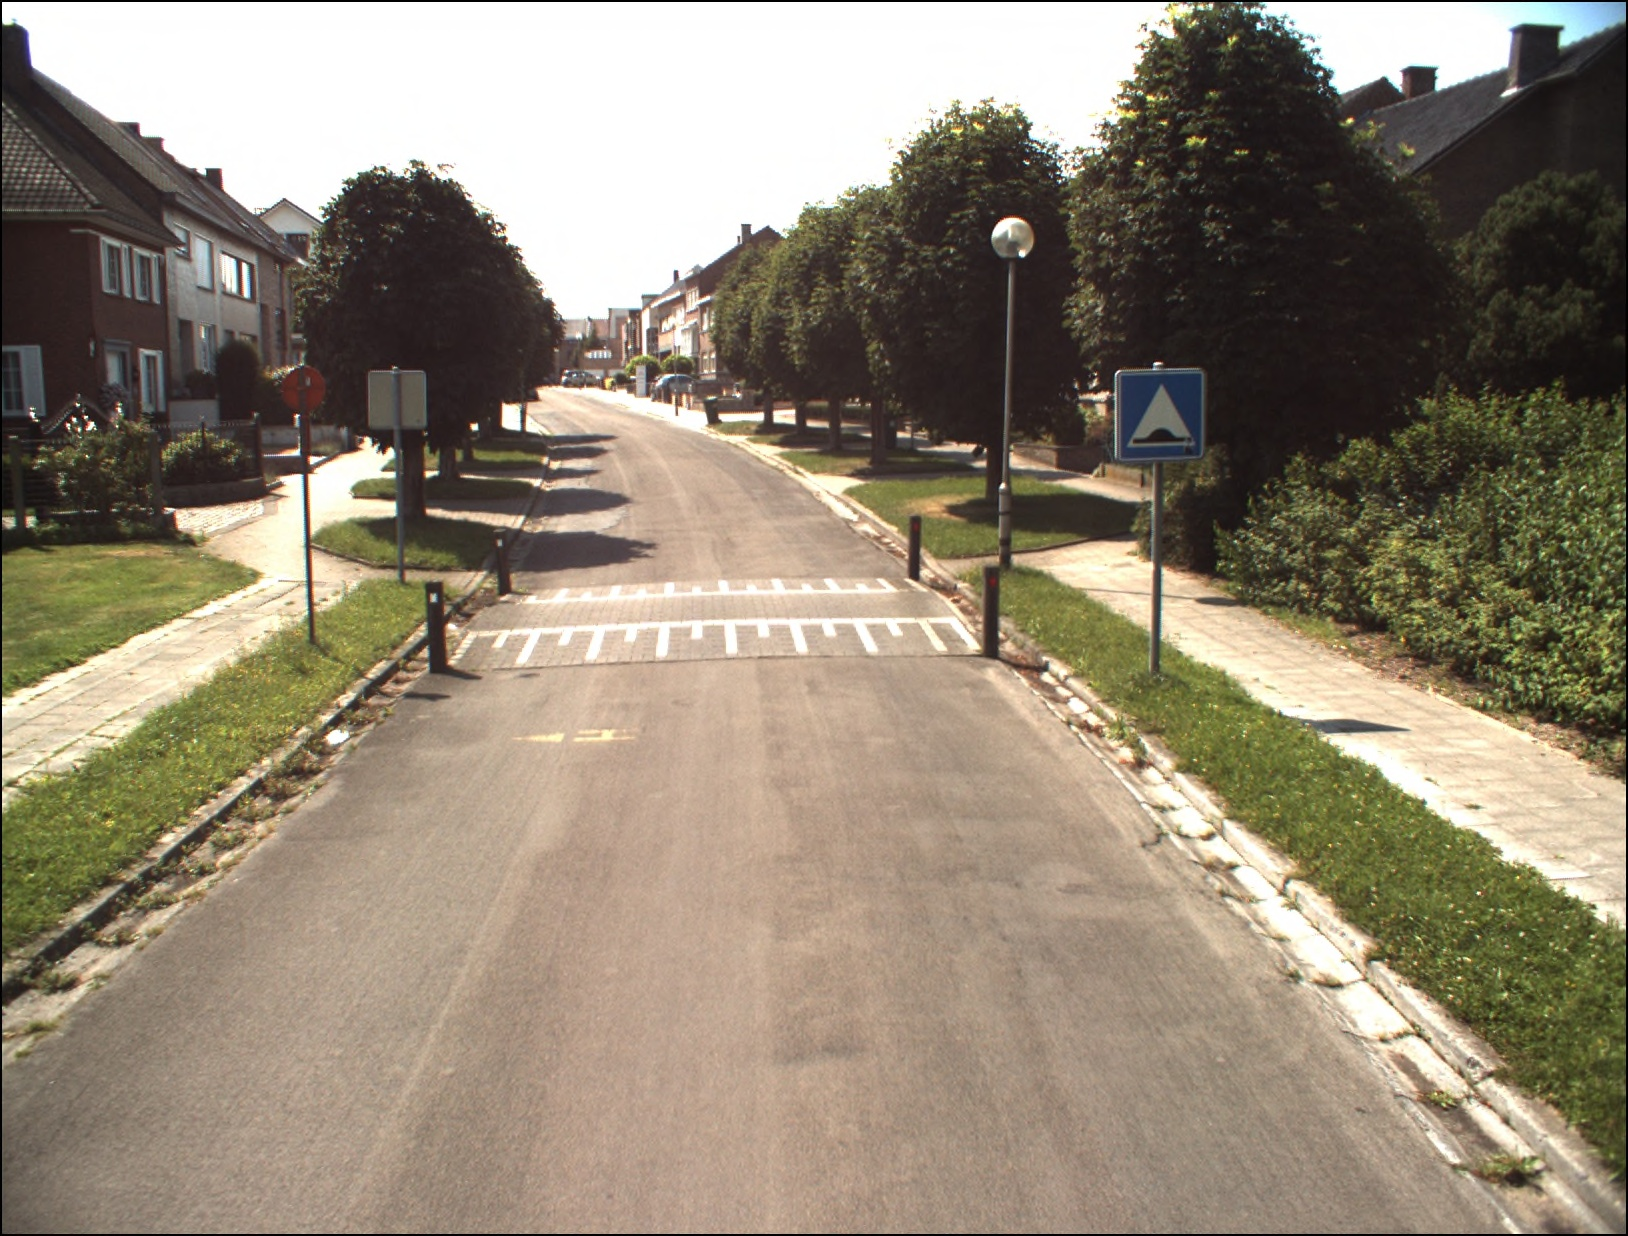speedbump: (1113, 366, 1207, 461)
